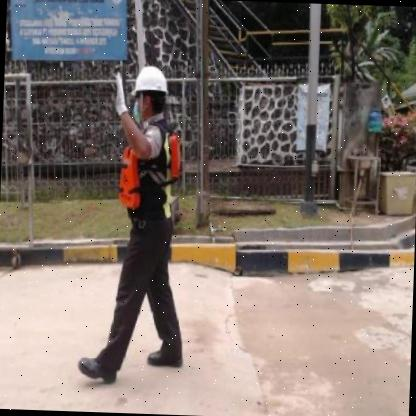bota: (74, 350, 121, 390), (144, 340, 189, 372)
capacete: (126, 61, 174, 100)
